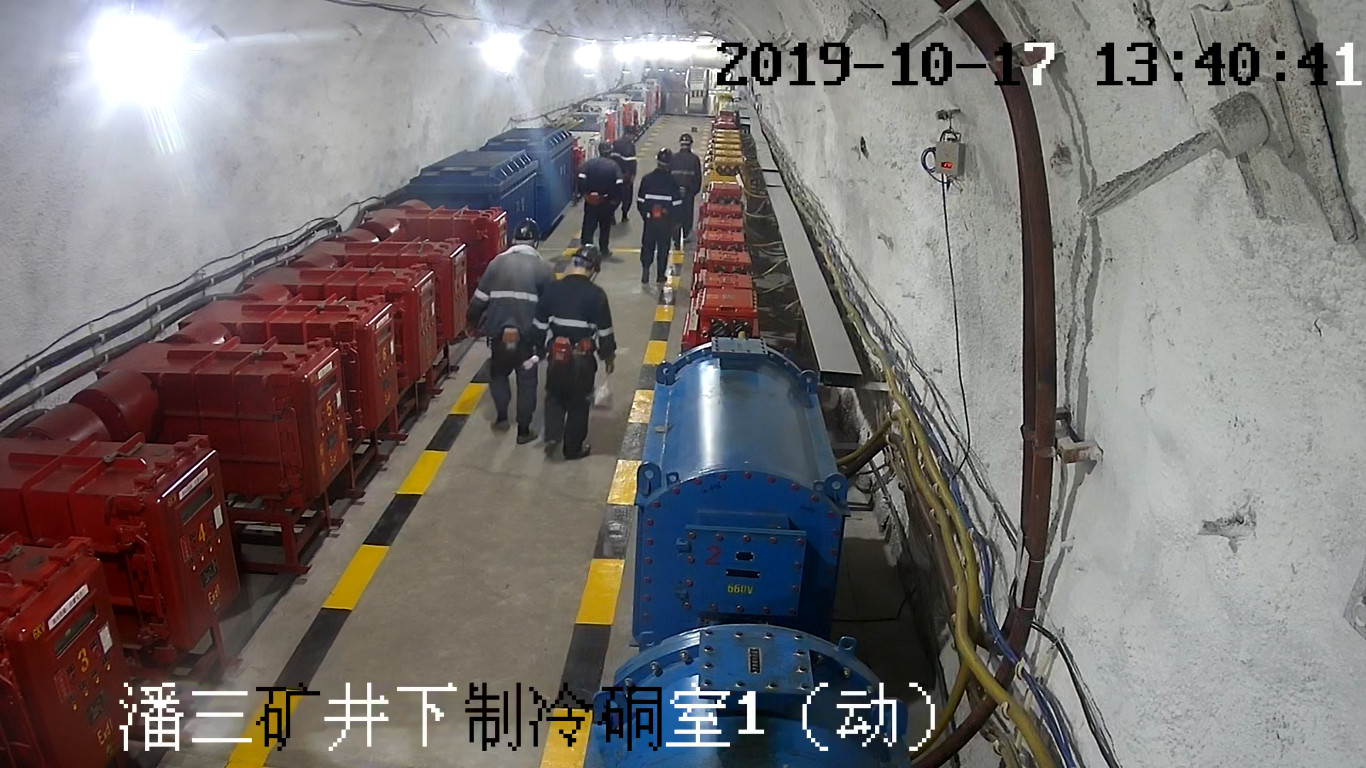helmet: (572, 243, 600, 272), (512, 217, 540, 240), (654, 145, 672, 165), (624, 121, 639, 136), (598, 139, 613, 152), (678, 133, 693, 144)
